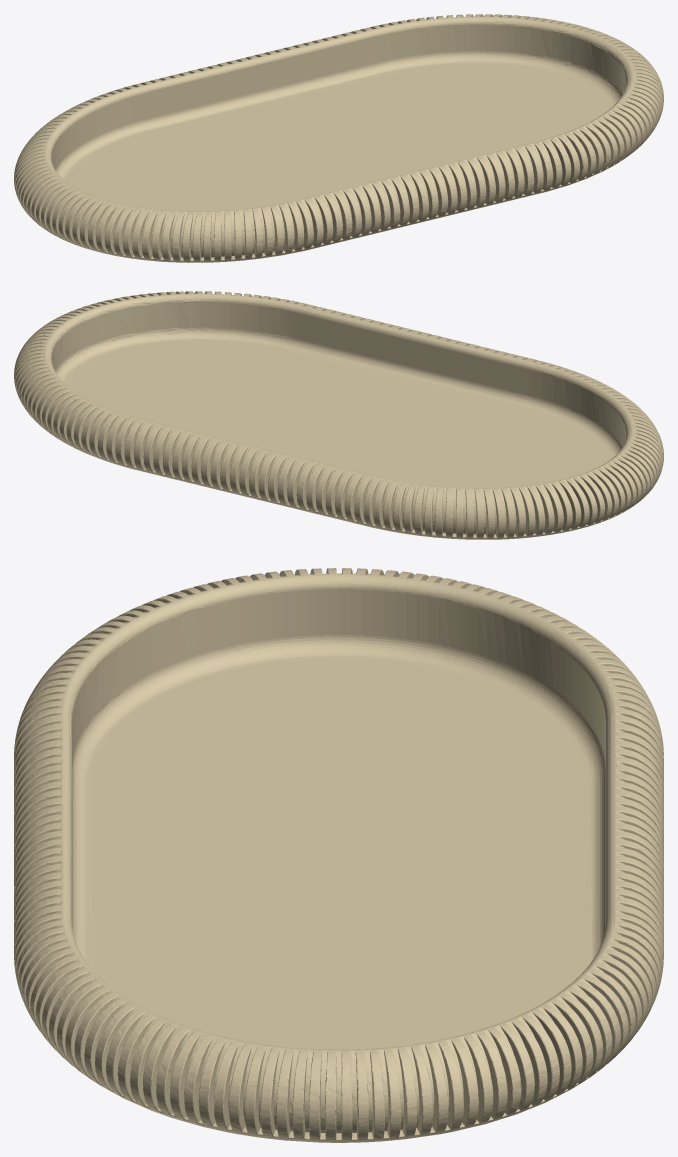
Rendered from bandeja-grande.glb.
3 renders of one model, top to bottom at view 1: azimuth 30°, elevation 25°; view 2: azimuth 150°, elevation 25°; view 3: azimuth 270°, elevation 25°, orthographic. The views are drawn at different scales.
Parts seen in each view (by area): view 1: color_1; view 2: color_1; view 3: color_1.
Part boxes in pixels (left/top/right/bottom): color_1: left=14, top=14, right=663, bottom=262; color_1: left=14, top=291, right=663, bottom=539; color_1: left=14, top=568, right=663, bottom=1142.
Size of the model in its own units: 0.235 by 0.016 by 0.123.
